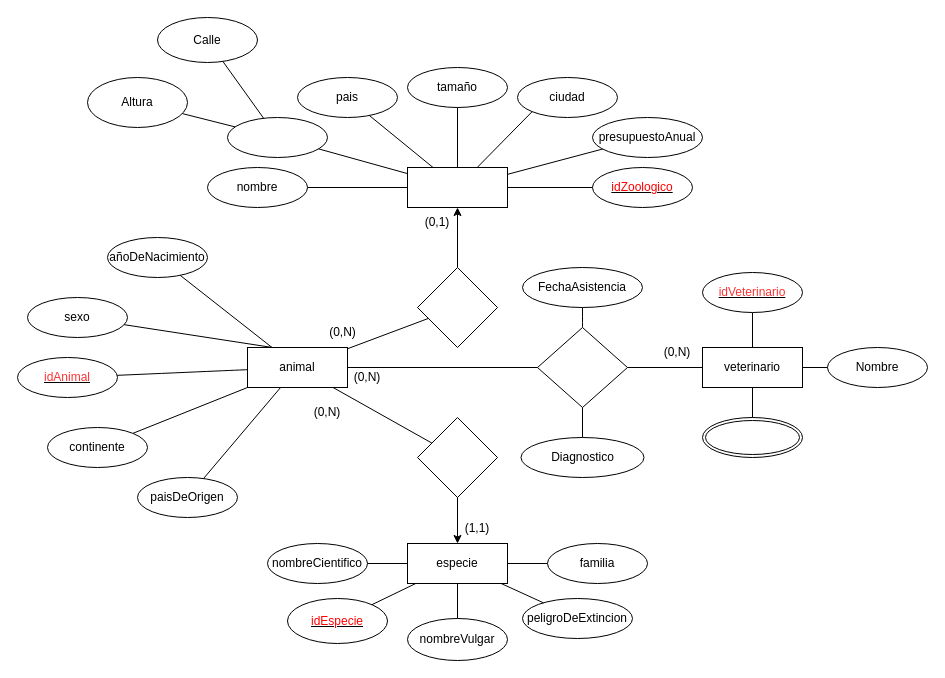
The diagram is 945 pixels wide and 678 high, and some of its shapes have lost their labels. The centre of each missing label's shape, as x and y in pixels:
"alberga" belongs at (x=457, y=307).
"direccion" belongs at (x=277, y=137).
"es" belongs at (x=457, y=457).
"HistoriaClinica" belongs at (x=582, y=367).
"Telefono" belongs at (x=752, y=437).
"zoologico" belongs at (x=457, y=187).
